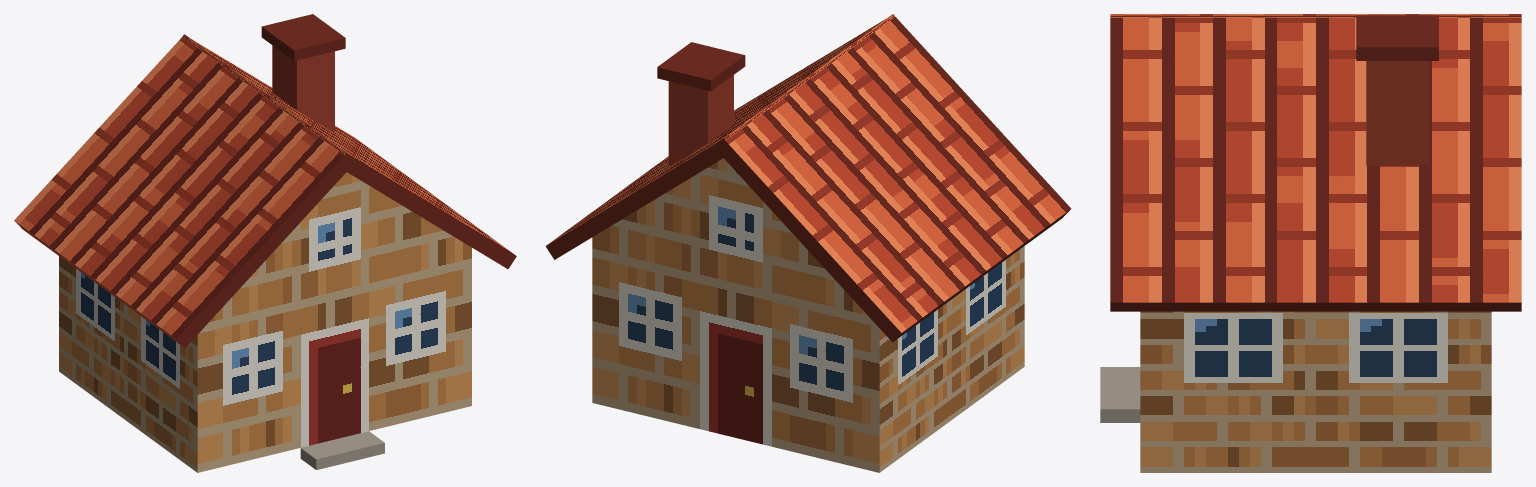
File: money-house.glb
3 renders of one model, left to right at view 1: azimuth 30°, elevation 25°; view 2: azimuth 150°, elevation 25°; view 3: azimuth 270°, elevation 25°, orthographic. The views are drawn at different scales.
Visible parts, largest first — view 1: money.house; view 2: money.house; view 3: money.house.
Part boxes in pixels (bbox=[...]): money.house: bbox=[14, 14, 516, 472]; money.house: bbox=[545, 14, 1071, 472]; money.house: bbox=[1100, 14, 1521, 472].
Size of the model in its own units: 1.45 by 1.33 by 1.22.
6 materials, 3 textured.
